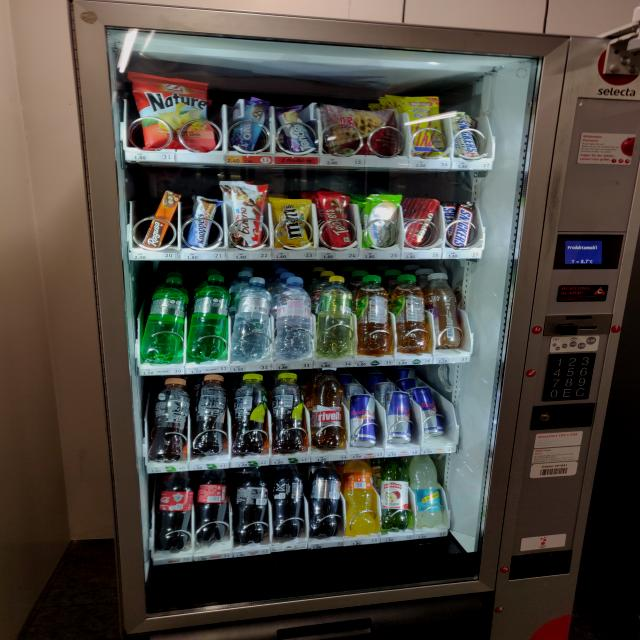b_tarteaupomme____: (327, 108, 400, 157)
bueno___43__4008400320328: (229, 185, 270, 250)
coke__flasche_50__54491472: (154, 472, 192, 553), (196, 468, 227, 544)
coke_zero_flasche_50__5449000131836: (234, 466, 272, 542), (307, 463, 343, 537), (272, 465, 304, 536)
darwida_sandwich____7610032065170: (364, 194, 402, 250)
evian___50__3068320353500: (280, 272, 316, 360)
fanta___50__40822938: (348, 460, 380, 532)
fuse_lemon__50__5449000235947: (234, 375, 269, 455), (276, 372, 304, 453)
fuse_peach__50__5449000236623: (150, 377, 191, 461), (190, 374, 228, 454)
knoppers_riegel____4035800488808: (186, 195, 224, 248)
malburner_partysticks__40__7610200279682: (410, 96, 443, 156)
maltesers_teasers__35__5000159462129: (321, 192, 355, 248)
milka_oreo_riegel_37_1_7622210704740: (232, 94, 270, 154)
milka_tender____: (282, 108, 312, 152)
mnms_gelb__45__40111445: (270, 197, 315, 247)
ragusa___50__76401121: (135, 191, 180, 250)
ramseier_jusdepomme__50__7610057001078: (382, 456, 411, 529)
redbull___33__90162909: (348, 393, 375, 447), (417, 388, 446, 436), (388, 394, 412, 444)
rivella_rot__50__7610097111072: (313, 367, 344, 450)
schweppes_bitterlemon__50__: (409, 455, 444, 526)
snickers___50__5000159461122: (448, 203, 476, 250)
snickers_weis__50__5000159461122: (457, 113, 485, 159)
torino___46__76415272: (408, 198, 442, 246)
valser_classic__50__76404160: (142, 273, 187, 364), (188, 272, 230, 363)
valser_still__50__7610335002575: (234, 274, 275, 361)
valser_vivabirne__50__7610335001530: (314, 274, 352, 357)
vivitz_classiczitrone__50__: (430, 273, 463, 350)
volvic_teeminze__50__3057640335648: (359, 274, 393, 354), (397, 274, 426, 352)
zweifel_salz__90__7610095005007: (134, 79, 220, 152)
